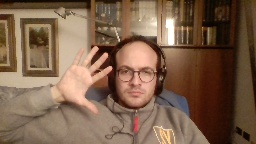Mano_aperta: (54, 44, 113, 117)
